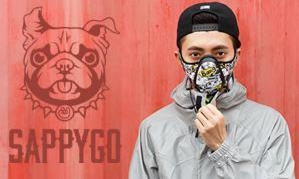face_mask: (180, 28, 236, 90)
